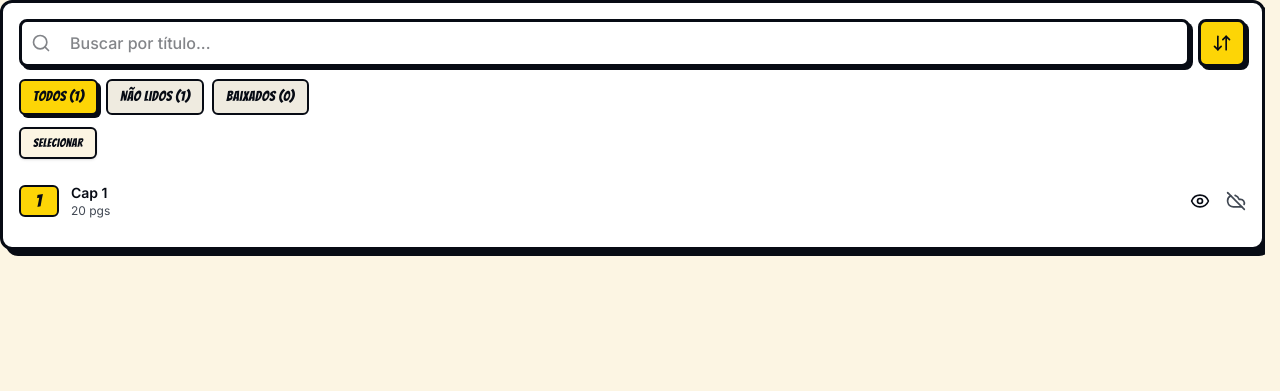
TabCapitulos › deve exibir mensagem de nenhum resultado quando filtro nao encontra
In the field with placeholder "Buscar por título...": (604, 43) [19,19,1190,67], type "inexistente"
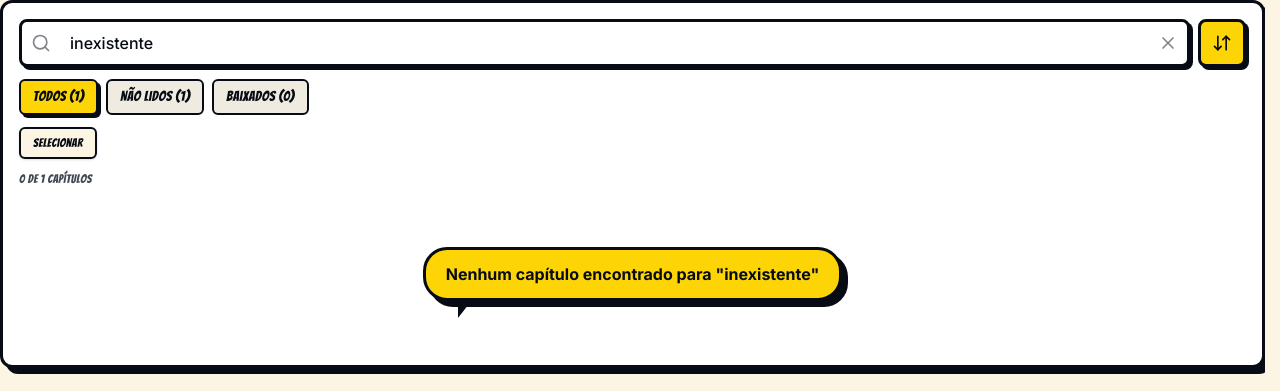
Expected: the text "Nenhum capítulo encontrado para \"inexistente\"" is shown, [423,247,842,301]
